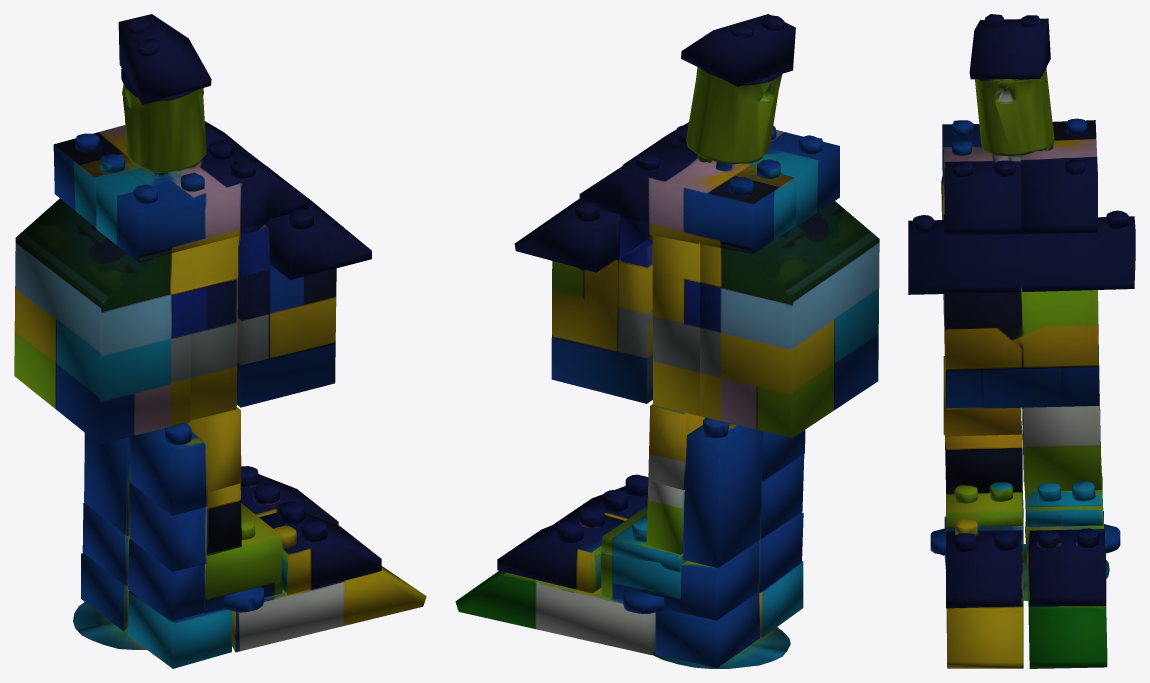
Rendered from object_55_asset_0b7e9a5a.glb.
The picture shows the model from 3 angles, left to right: view 1: azimuth 30°, elevation 25°; view 2: azimuth 150°, elevation 25°; view 3: azimuth 270°, elevation 25°; orthographic projection. The views are drawn at different scales.
Parts seen in each view (by area): view 1: tripo_node_b61d4e71-dcbd-4eca-a357-64d305966b8f; view 2: tripo_node_b61d4e71-dcbd-4eca-a357-64d305966b8f; view 3: tripo_node_b61d4e71-dcbd-4eca-a357-64d305966b8f.
Boxes of the visible parts, x1=… form: tripo_node_b61d4e71-dcbd-4eca-a357-64d305966b8f: x1=14, y1=14, x2=426, y2=668; tripo_node_b61d4e71-dcbd-4eca-a357-64d305966b8f: x1=455, y1=14, x2=879, y2=668; tripo_node_b61d4e71-dcbd-4eca-a357-64d305966b8f: x1=908, y1=14, x2=1135, y2=668.
Bounding box in the file's own units: 0.5645 × 0.998 × 0.377.
1 material, 1 textured.
